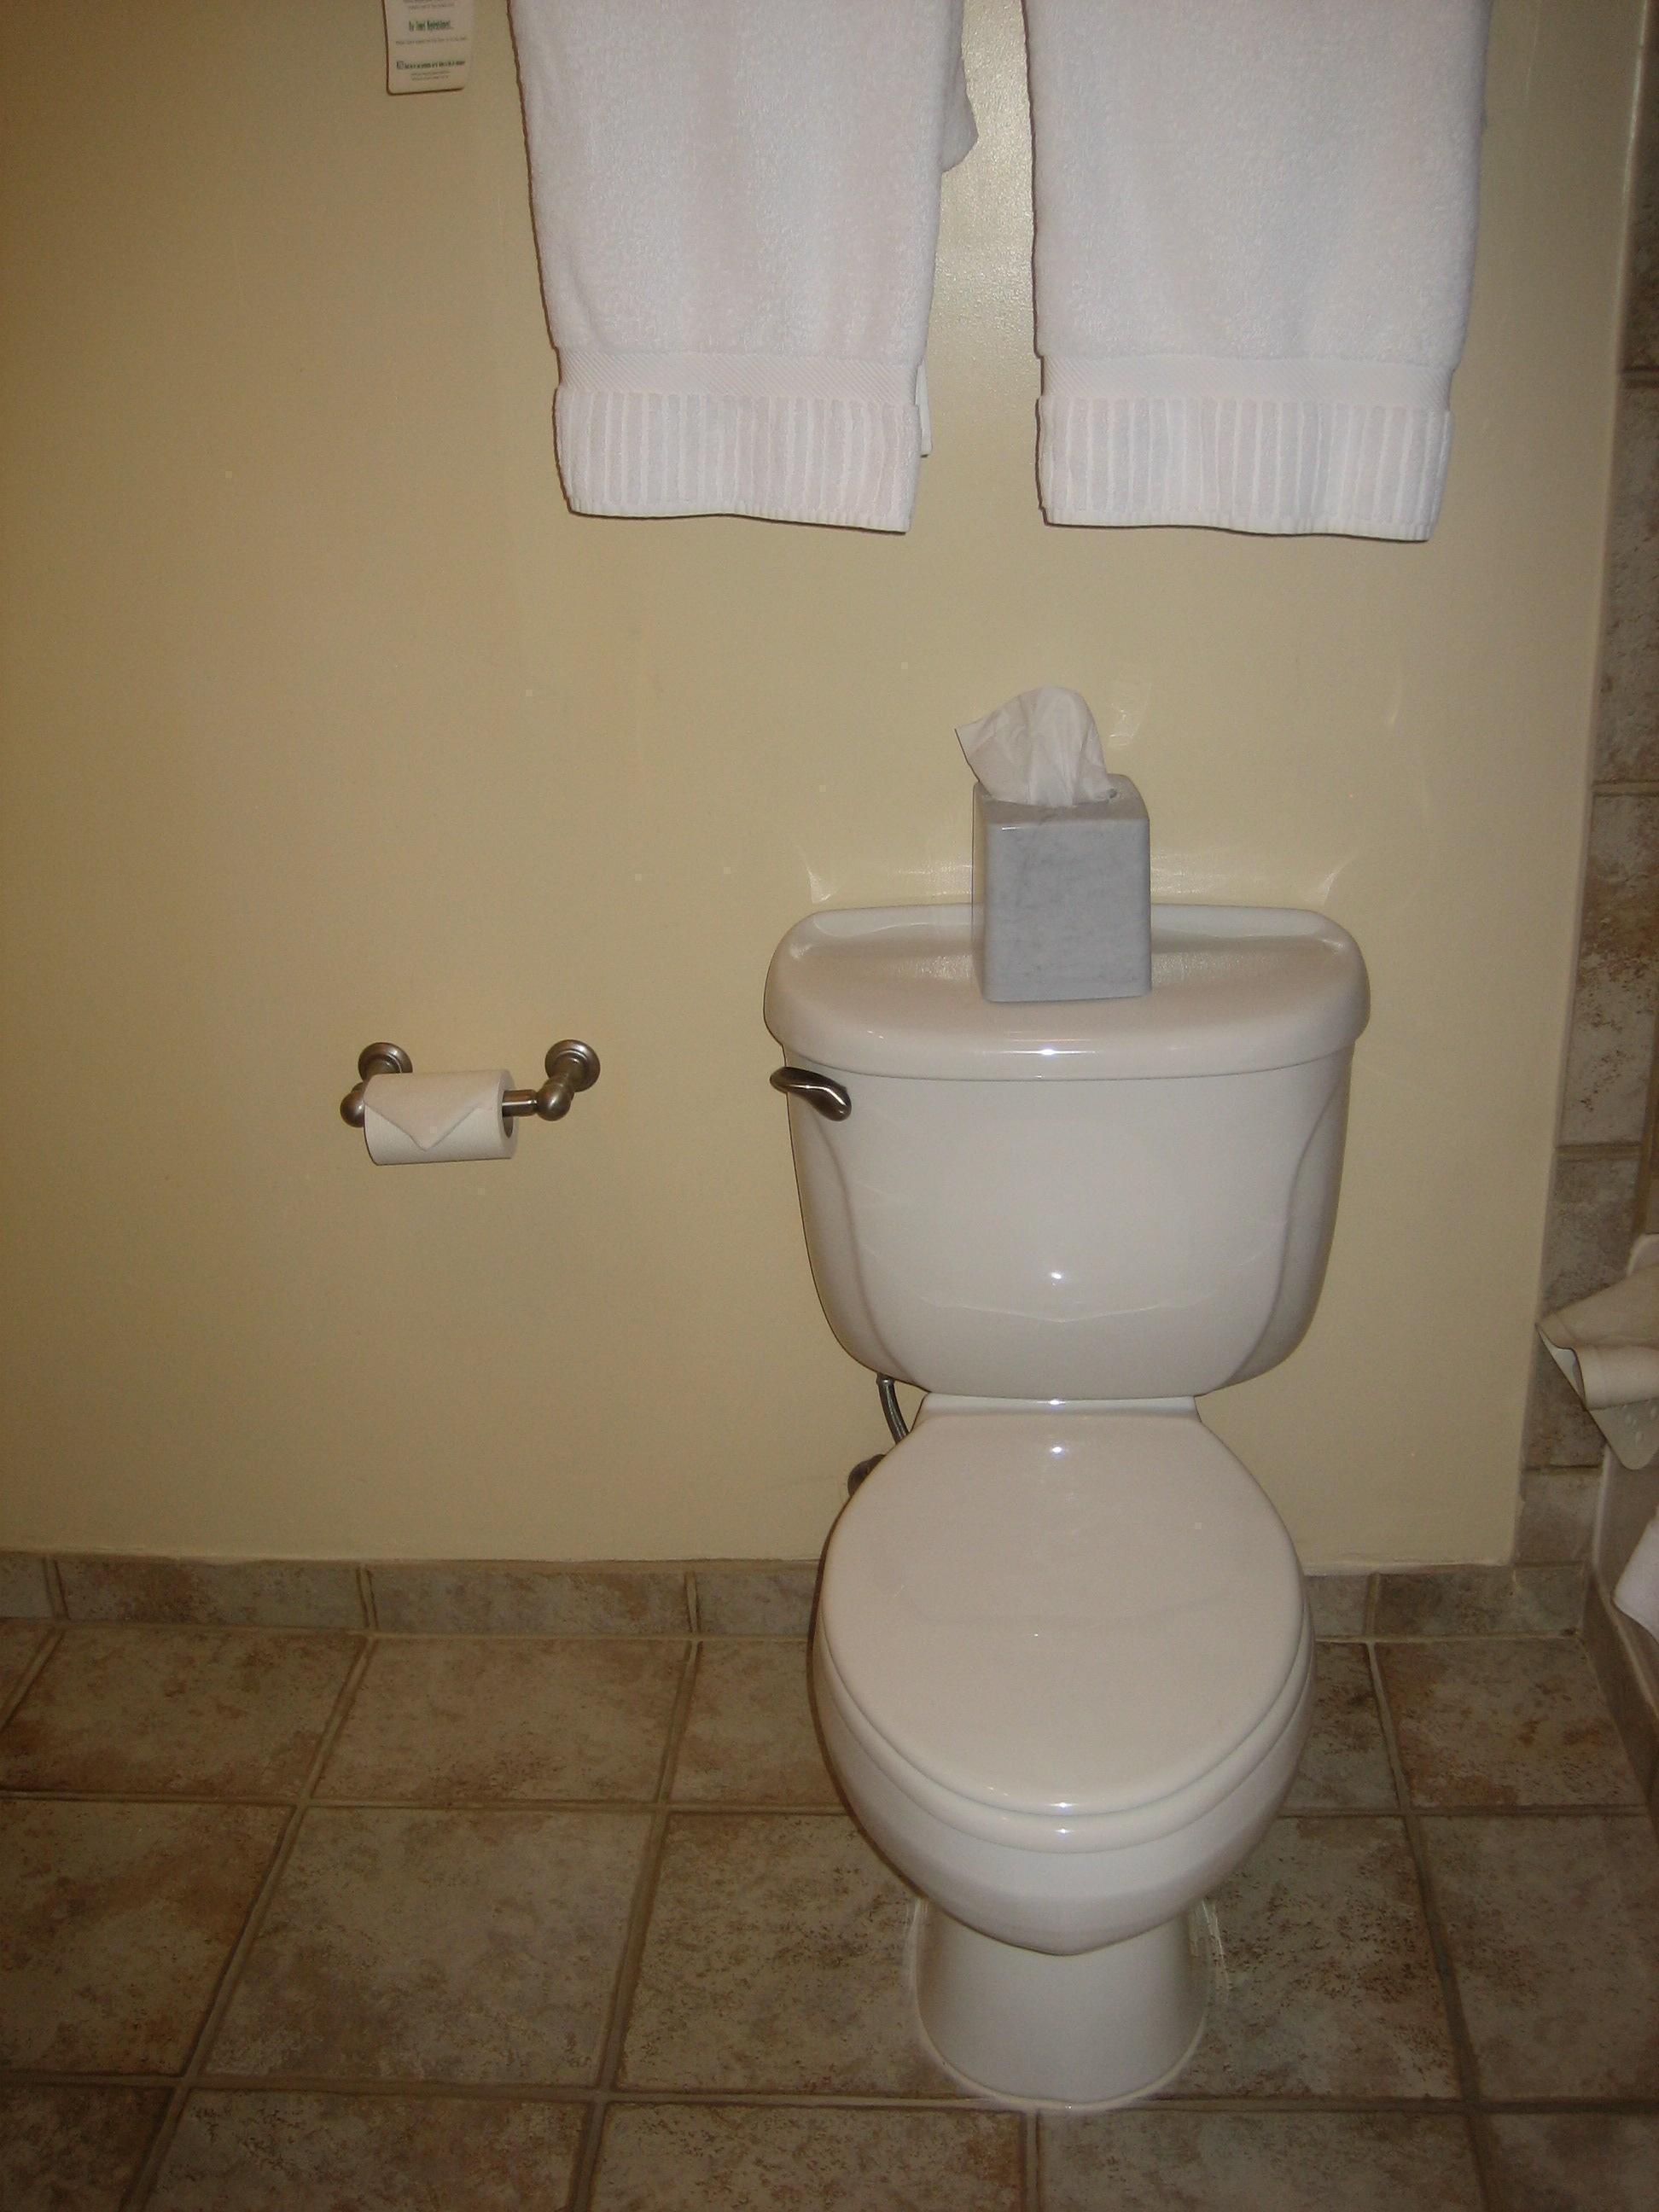Sanitario: (760, 942, 1384, 2116)
